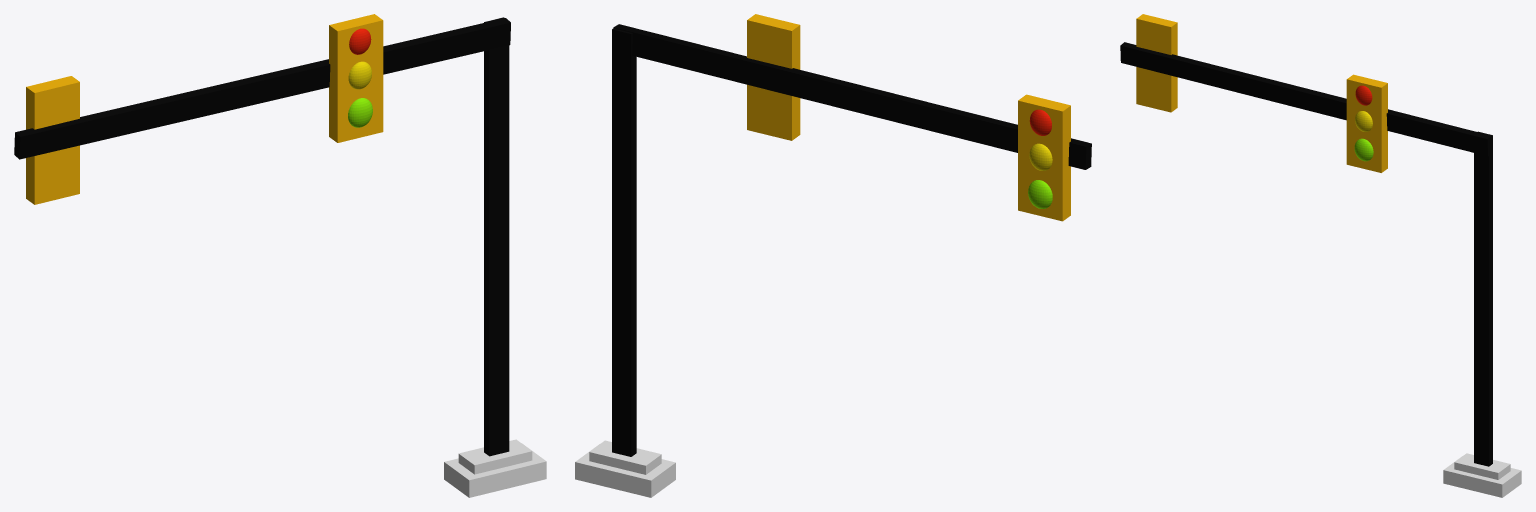
The model's file is trafficLight1.fbx.
3 views of the same model, side by side, from view 1: azimuth 30°, elevation 25°; view 2: azimuth 150°, elevation 25°; view 3: azimuth 330°, elevation 25° (orthographic). The views are drawn at different scales.
Parts seen in each view (by area): view 1: Cube.003, Cube.002, Cube.005, Cube.004, Cube, Cube.001, Sphere.005; view 2: Cube.003, Cube.002, Cube.005, Cube.004, Cube, Cube.001, Sphere.002; view 3: Cube.003, Cube.002, Cube.004, Cube.005, Cube, Cube.001.
Part boxes in pixels (left/top/right/bottom): Cube.003: left=14, top=18, right=510, bottom=159; Cube.002: left=484, top=17, right=509, bottom=456; Cube.005: left=329, top=14, right=383, bottom=142; Cube.004: left=26, top=76, right=79, bottom=204; Cube: left=444, top=443, right=546, bottom=497; Cube.001: left=458, top=439, right=532, bottom=474; Sphere.005: left=348, top=98, right=372, bottom=127; Cube.003: left=613, top=24, right=1091, bottom=169; Cube.002: left=612, top=28, right=636, bottom=456; Cube.005: left=747, top=14, right=800, bottom=140; Cube.004: left=1018, top=94, right=1070, bottom=221; Cube: left=575, top=444, right=675, bottom=497; Cube.001: left=589, top=440, right=661, bottom=474; Sphere.002: left=1028, top=180, right=1052, bottom=208; Cube.003: left=1120, top=42, right=1492, bottom=156; Cube.002: left=1474, top=131, right=1492, bottom=466; Cube.004: left=1136, top=14, right=1177, bottom=112; Cube.005: left=1346, top=74, right=1387, bottom=172; Cube: left=1443, top=456, right=1521, bottom=497; Cube.001: left=1454, top=453, right=1510, bottom=479.
Size of the model in its own units: 1699 by 1568 by 171.
